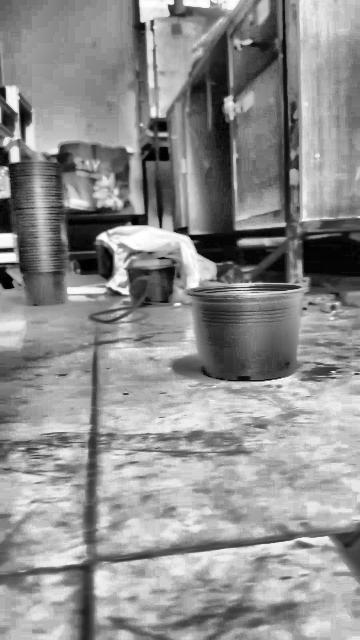pot: (186, 282, 307, 381), (127, 260, 176, 305)
